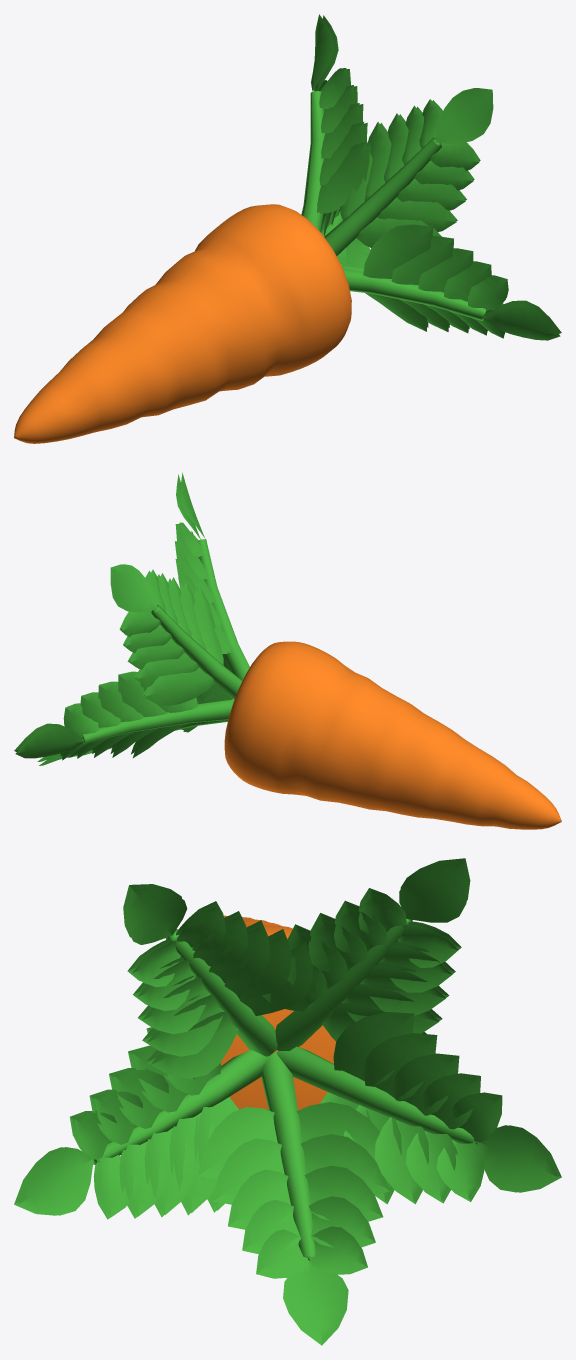
Rendered from VeggieCarrot.obj.
3 renders of one model, top to bottom at view 1: azimuth 30°, elevation 25°; view 2: azimuth 150°, elevation 25°; view 3: azimuth 270°, elevation 25°, orthographic. The views are drawn at different scales.
Visible parts, largest first — view 1: CarrotRoot, CarrotLeaves; view 2: CarrotRoot, CarrotLeaves; view 3: CarrotLeaves, CarrotRoot.
Boxes of the visible parts, box(x1,y1,x2,y2) form: CarrotRoot: box(14, 204, 351, 443); CarrotLeaves: box(301, 14, 561, 340); CarrotRoot: box(224, 641, 561, 829); CarrotLeaves: box(14, 472, 249, 765); CarrotLeaves: box(14, 858, 561, 1345); CarrotRoot: box(221, 915, 335, 1110).
Size of the model in its own units: 3.85 by 2.02 by 2.5.
